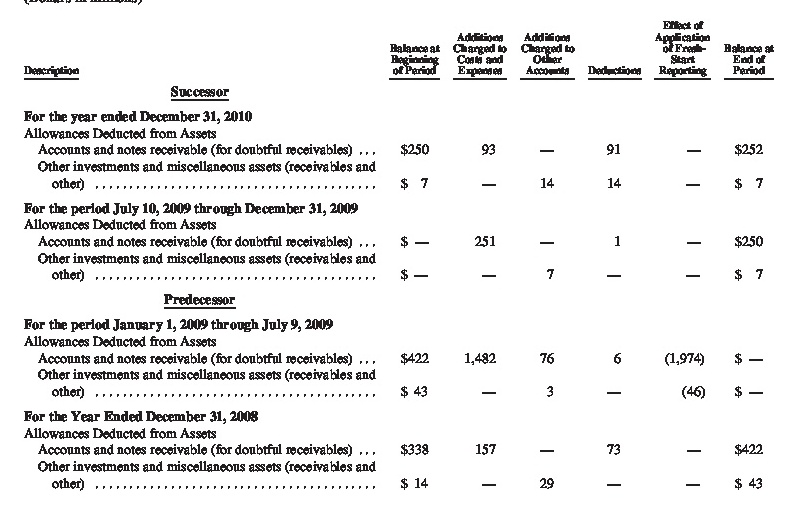table: (0, 0, 800, 531)
